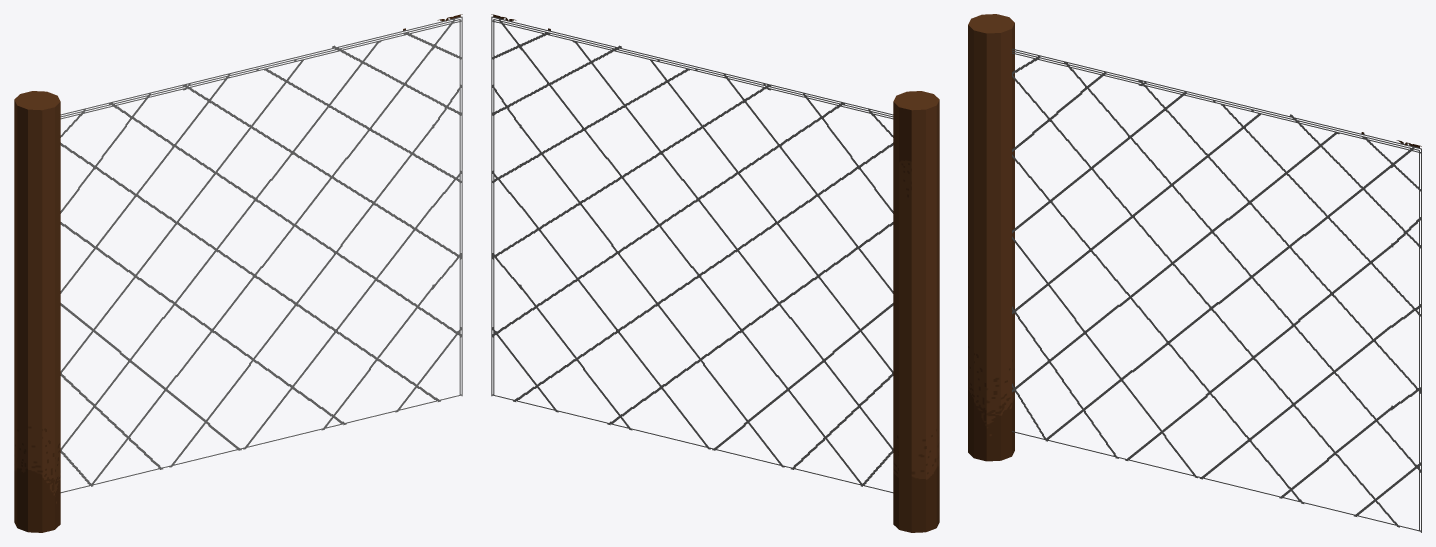
The model's file is Zaun.fbx.
3 renders of one model, left to right at view 1: azimuth 30°, elevation 25°; view 2: azimuth 150°, elevation 25°; view 3: azimuth 330°, elevation 25°, orthographic.
Visible parts, largest first — view 1: pPlane2; view 2: pPlane2; view 3: pPlane2.
Part boxes in pixels (x1,y1,x2,y2): pPlane2: (14,14,462,532); pPlane2: (491,14,939,532); pPlane2: (968,14,1421,532).
Size of the model in its own units: 0.0221 by 0.02 by 0.0019.
